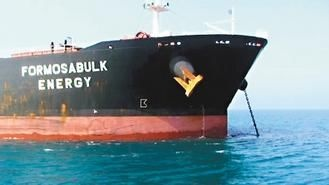Cargoship: (1, 1, 271, 143)
